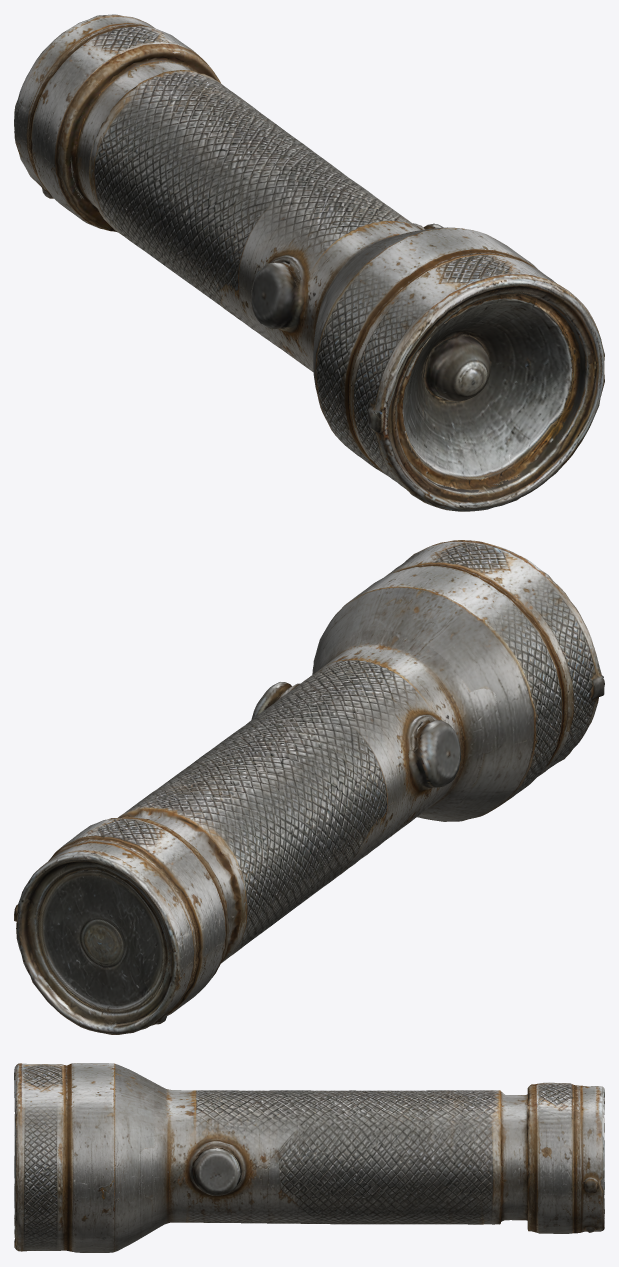
File: Flashlight.fbx
The picture shows the model from 3 angles, top to bottom: view 1: azimuth 30°, elevation 25°; view 2: azimuth 150°, elevation 25°; view 3: azimuth 270°, elevation 25°; orthographic projection. The views are drawn at different scales.
Parts seen in each view (by area): view 1: Flashlight; view 2: Flashlight; view 3: Flashlight.
Boxes of the visible parts, bbox=[...] form: Flashlight: bbox=[14, 14, 604, 511]; Flashlight: bbox=[14, 540, 604, 1034]; Flashlight: bbox=[14, 1063, 604, 1252].
Bounding box in the file's own units: 8.06 × 7.74 × 24.
1 material, 1 textured.
